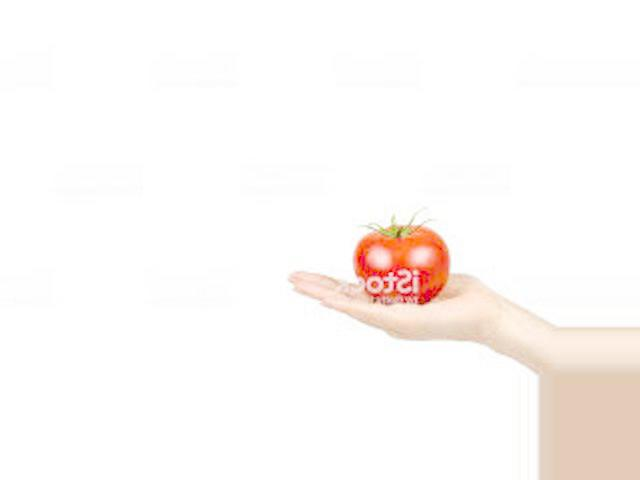tomato: (354, 223, 450, 303)
